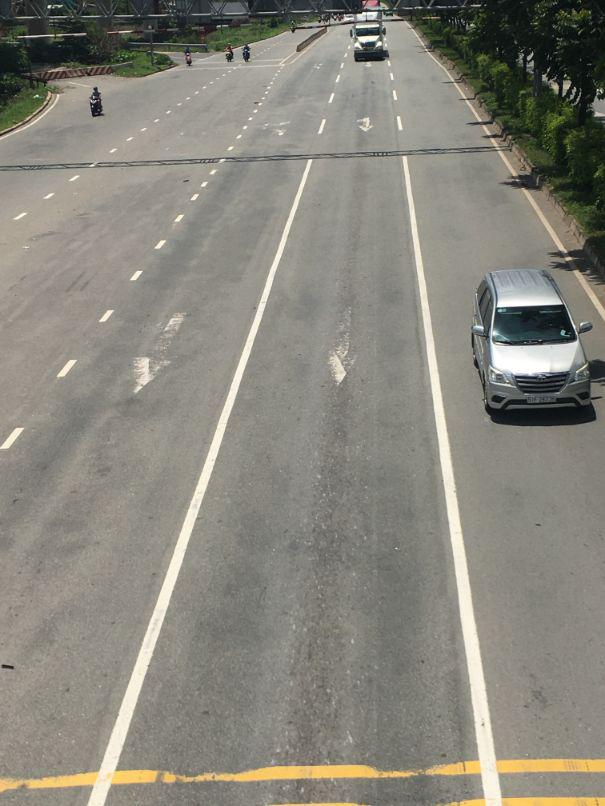car: (470, 266, 598, 424)
truck: (351, 12, 384, 59)
